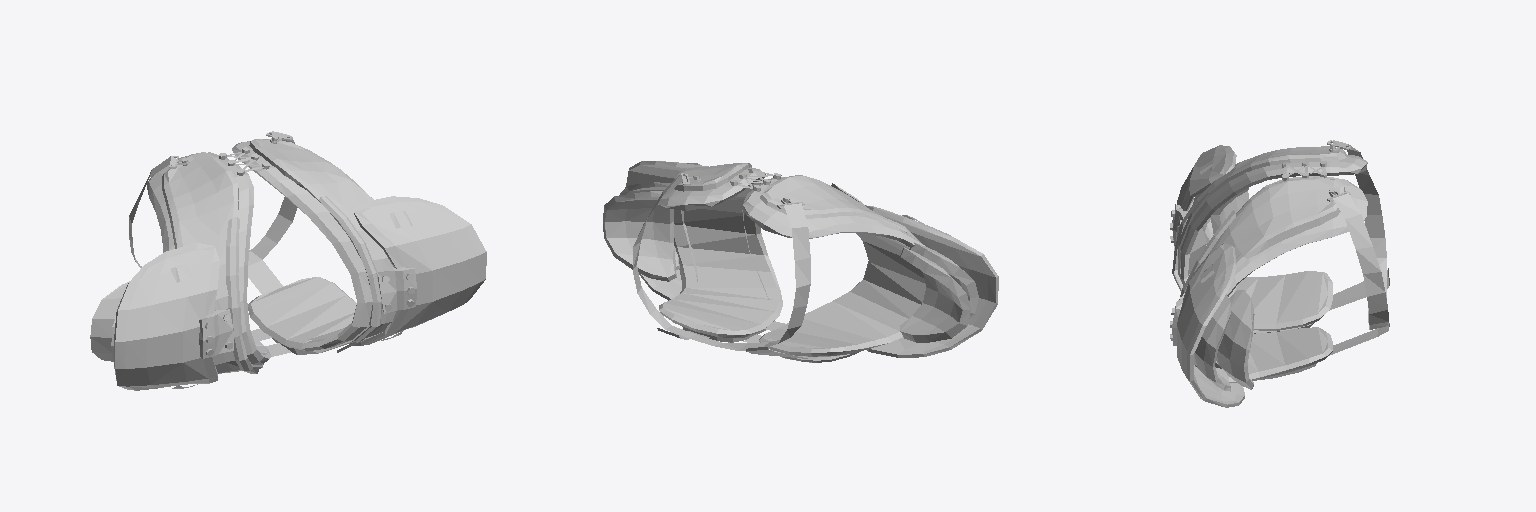
The model's file is FootballArmor.obj.
3 views of the same model, side by side, from view 1: azimuth 30°, elevation 25°; view 2: azimuth 150°, elevation 25°; view 3: azimuth 270°, elevation 25° (orthographic).
Parts seen in each view (by area): view 1: Arms; view 2: Arms; view 3: Arms.
Part boxes in pixels (x1,y1,x2,y2): Arms: (90,131,486,390); Arms: (603,161,998,362); Arms: (1170,140,1389,407).
Bounding box in the file's own units: 54 × 25.05 × 27.81.